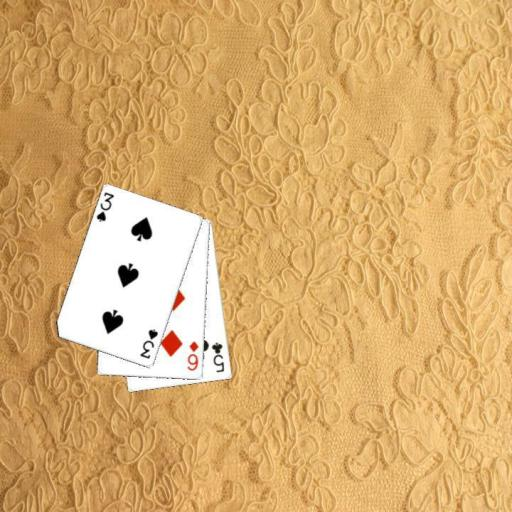card-corner: (93, 189, 115, 224), (138, 326, 160, 360), (209, 339, 226, 374), (184, 338, 200, 372)
